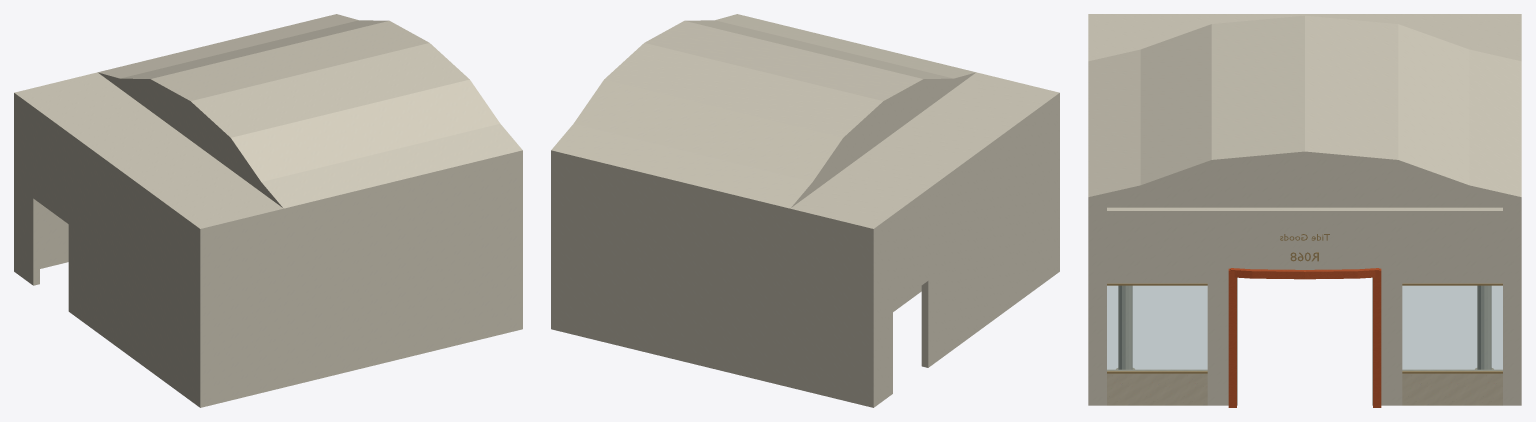
File: SHOP_D09_S72_A184__shell.glb
3 renders of one model, left to right at view 1: azimuth 30°, elevation 25°; view 2: azimuth 150°, elevation 25°; view 3: azimuth 270°, elevation 25°, orthographic. The views are drawn at different scales.
Parts seen in each view (by area): view 1: SHOP_D09_S72_A184__shell__ivory_enamel; view 2: SHOP_D09_S72_A184__shell__ivory_enamel; view 3: SHOP_D09_S72_A184__shell__ivory_enamel, SHOP_D09_S72_A184__shell__shop_glass, SHOP_D09_S72_A184__shell__warm_stone, SHOP_D09_S72_A184__shell__retail_terracotta_enamel, SHOP_D09_S72_A184__shell__champagne_metal.
Boxes of the visible parts, <box> form: SHOP_D09_S72_A184__shell__ivory_enamel: <box>14,14,522,407</box>; SHOP_D09_S72_A184__shell__ivory_enamel: <box>551,14,1059,407</box>; SHOP_D09_S72_A184__shell__ivory_enamel: <box>1088,14,1521,405</box>; SHOP_D09_S72_A184__shell__shop_glass: <box>1107,286,1502,370</box>; SHOP_D09_S72_A184__shell__warm_stone: <box>1107,368,1502,405</box>; SHOP_D09_S72_A184__shell__retail_terracotta_enamel: <box>1228,268,1381,407</box>; SHOP_D09_S72_A184__shell__champagne_metal: <box>1107,234,1502,373</box>.
Size of the model in its own units: 11.86 by 7.5 by 11.6.
6 materials, 4 textured.
